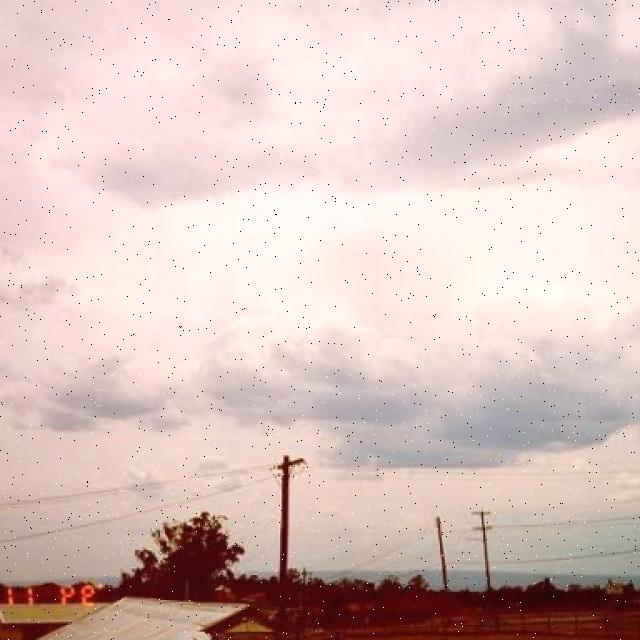Cs: (1, 1, 640, 463)
